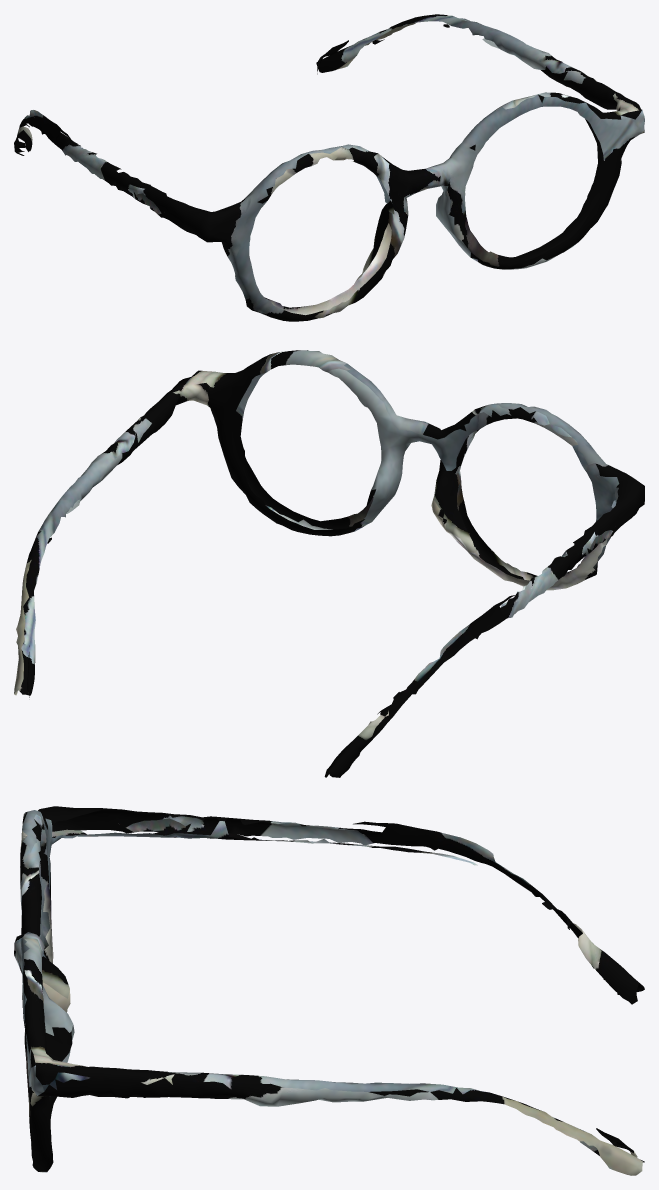
The model's file is scan_align.obj.
3 views of the same model, one above another, from view 1: azimuth 30°, elevation 25°; view 2: azimuth 150°, elevation 25°; view 3: azimuth 270°, elevation 25° (orthographic). The views are drawn at different scales.
Bounding box in the file's own units: 0.1312 × 0.0482 × 0.1294.
